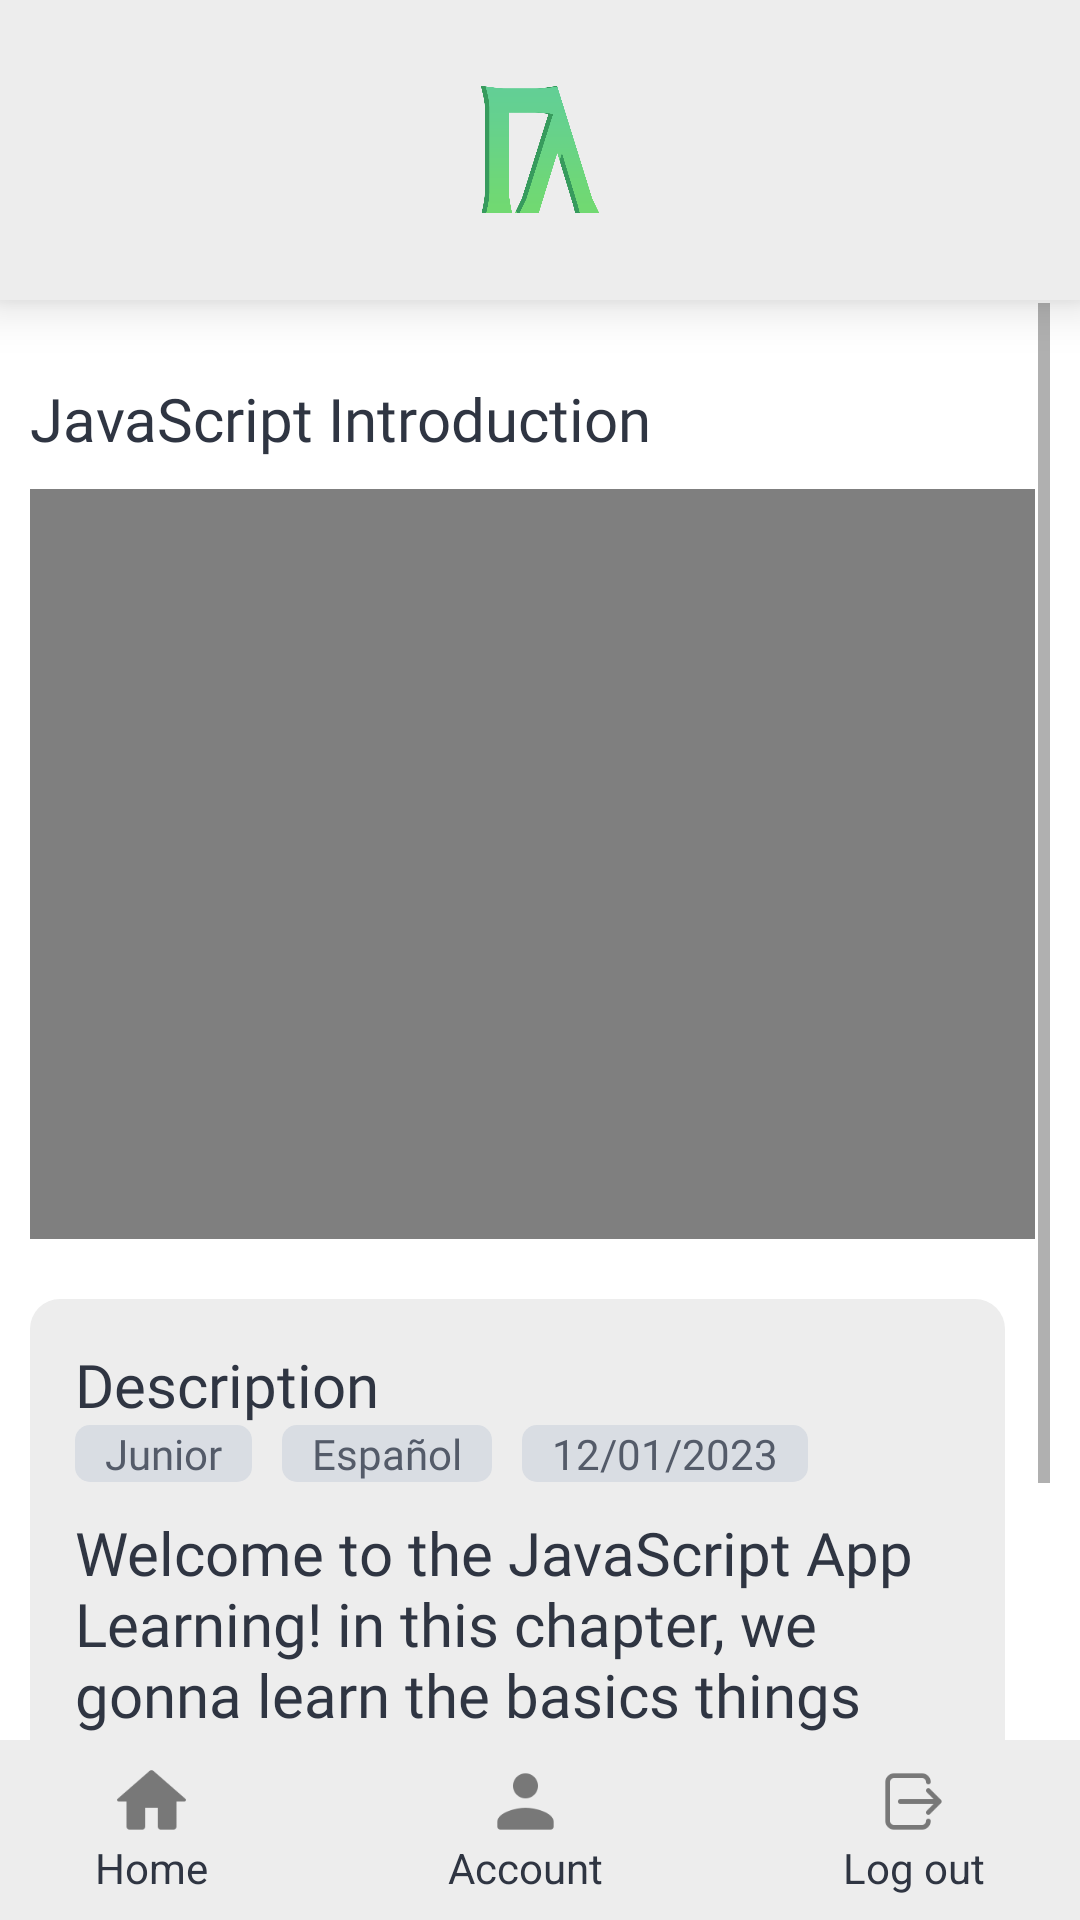

Screen size 1080 x 1920. Icon name, then its box in pixels as (x1, y1, x2, y2):
user: (497, 1773, 554, 1830)
